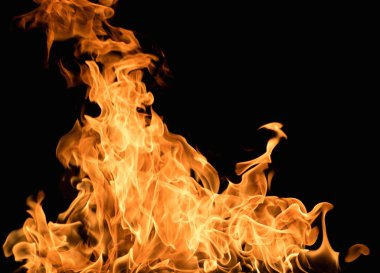fire: (31, 7, 284, 262)
